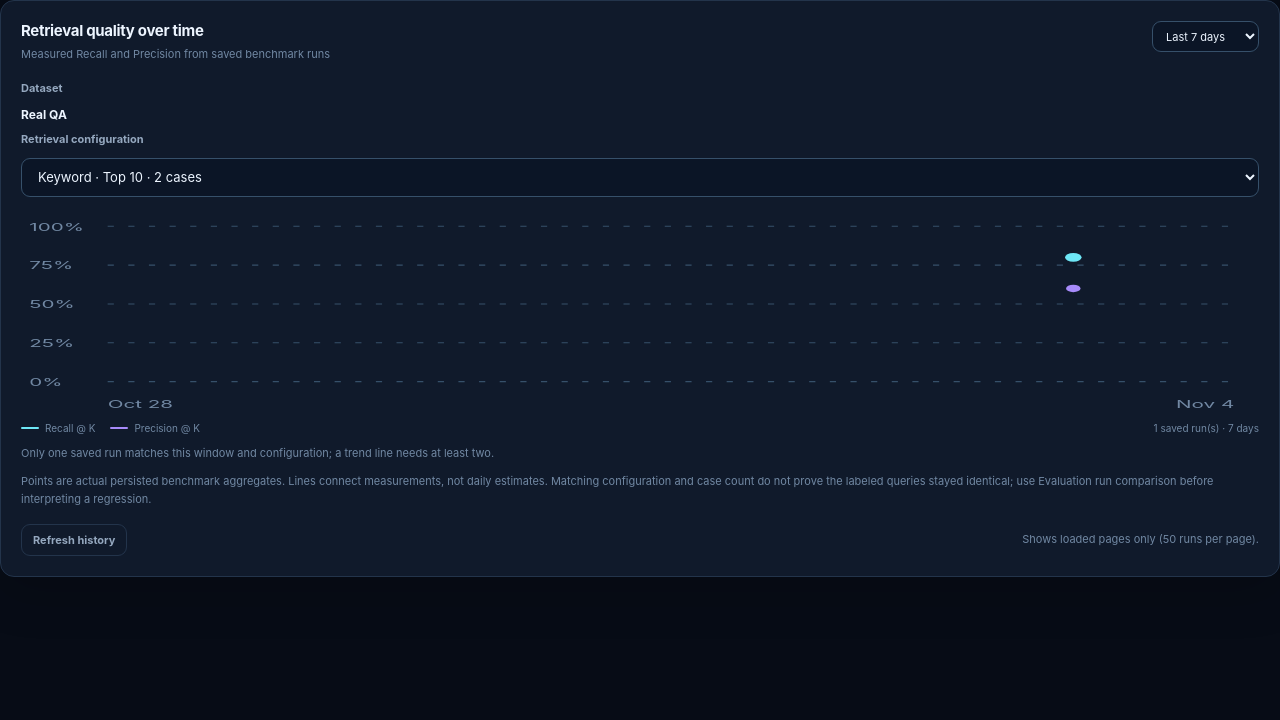
Scenario: Overview measured quality chart › filters 7/30 days and connects points only when there are at least two runs
Expected: the text "Only one saved run matches" is shown, x1=21 y1=446 x2=494 y2=460
Select "Last 30 days" in the dropdown named "Chart time window": (1206,36) x1=1152 y1=21 x2=1259 y2=52
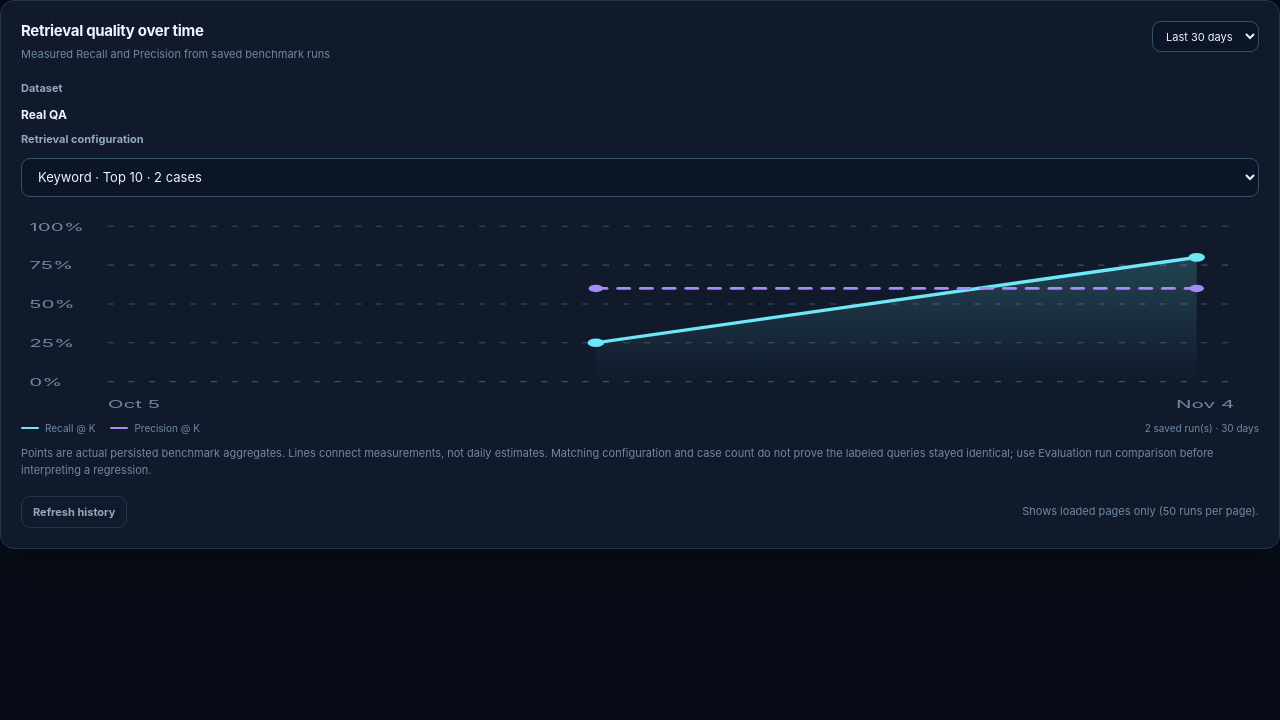
Expected: the picture named "over the last 30 days from 2 saved benchmark" is shown, x1=21 y1=208 x2=1259 y2=414
